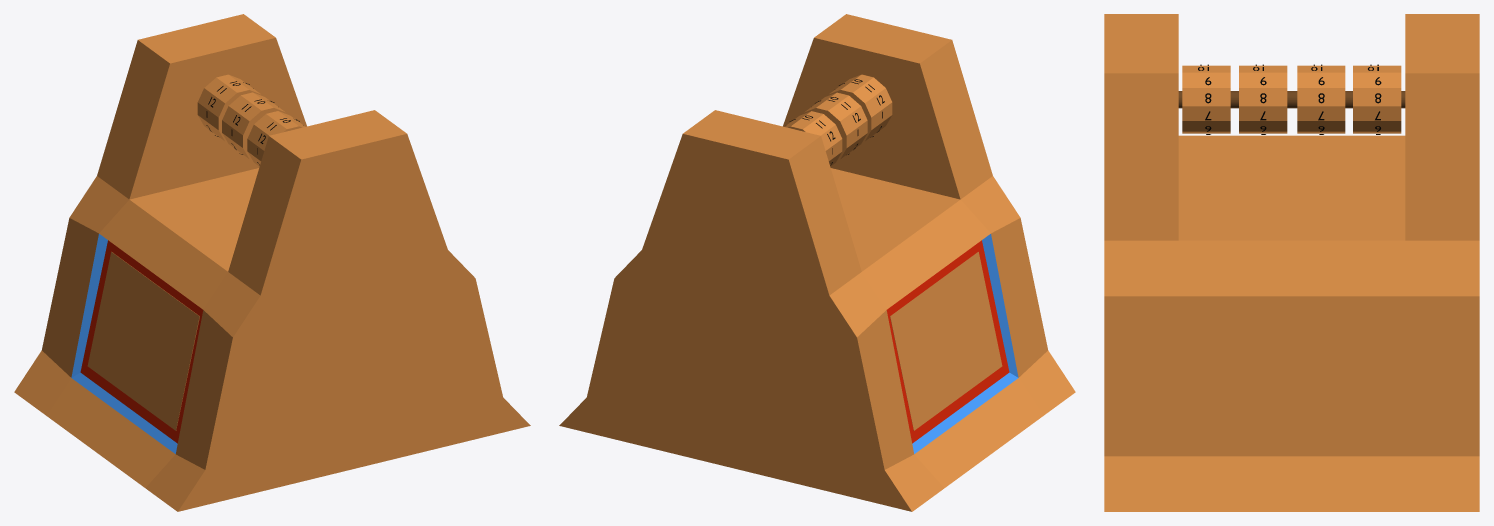
Rendered from Escape_Room_Schaltung 1.fbx.
The picture shows the model from 3 angles, left to right: view 1: azimuth 30°, elevation 25°; view 2: azimuth 150°, elevation 25°; view 3: azimuth 270°, elevation 25°; orthographic projection. The views are drawn at different scales.
Visible parts, largest first — view 1: Cube, Cube.005, Cube.003, Cube.004, Cube.002; view 2: Cube, Cube.005, Cube.002, Cube.001, Cube.003; view 3: Cube, Cube.001, Cube.003, Cube.004, Cube.002, Cylinder.
Part boxes in pixels (left/top/right/bottom): Cube: left=14, top=14, right=530, bottom=511; Cube.005: left=87, top=252, right=199, bottom=430; Cube.003: left=222, top=92, right=286, bottom=160; Cube.004: left=197, top=74, right=261, bottom=141; Cube.002: left=247, top=111, right=305, bottom=166; Cube: left=559, top=14, right=1075, bottom=511; Cube.005: left=890, top=252, right=1002, bottom=430; Cube.002: left=803, top=92, right=867, bottom=160; Cube.001: left=828, top=74, right=892, bottom=142; Cube.003: left=784, top=111, right=842, bottom=166; Cube: left=1104, top=14, right=1479, bottom=511; Cube.001: left=1182, top=65, right=1230, bottom=133; Cube.003: left=1297, top=65, right=1345, bottom=133; Cube.004: left=1353, top=65, right=1401, bottom=133; Cube.002: left=1239, top=65, right=1287, bottom=133; Cylinder: left=1178, top=91, right=1405, bottom=108.
Size of the model in its own units: 982 by 856 by 788.
